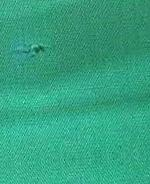knot: (24, 40, 51, 60)
